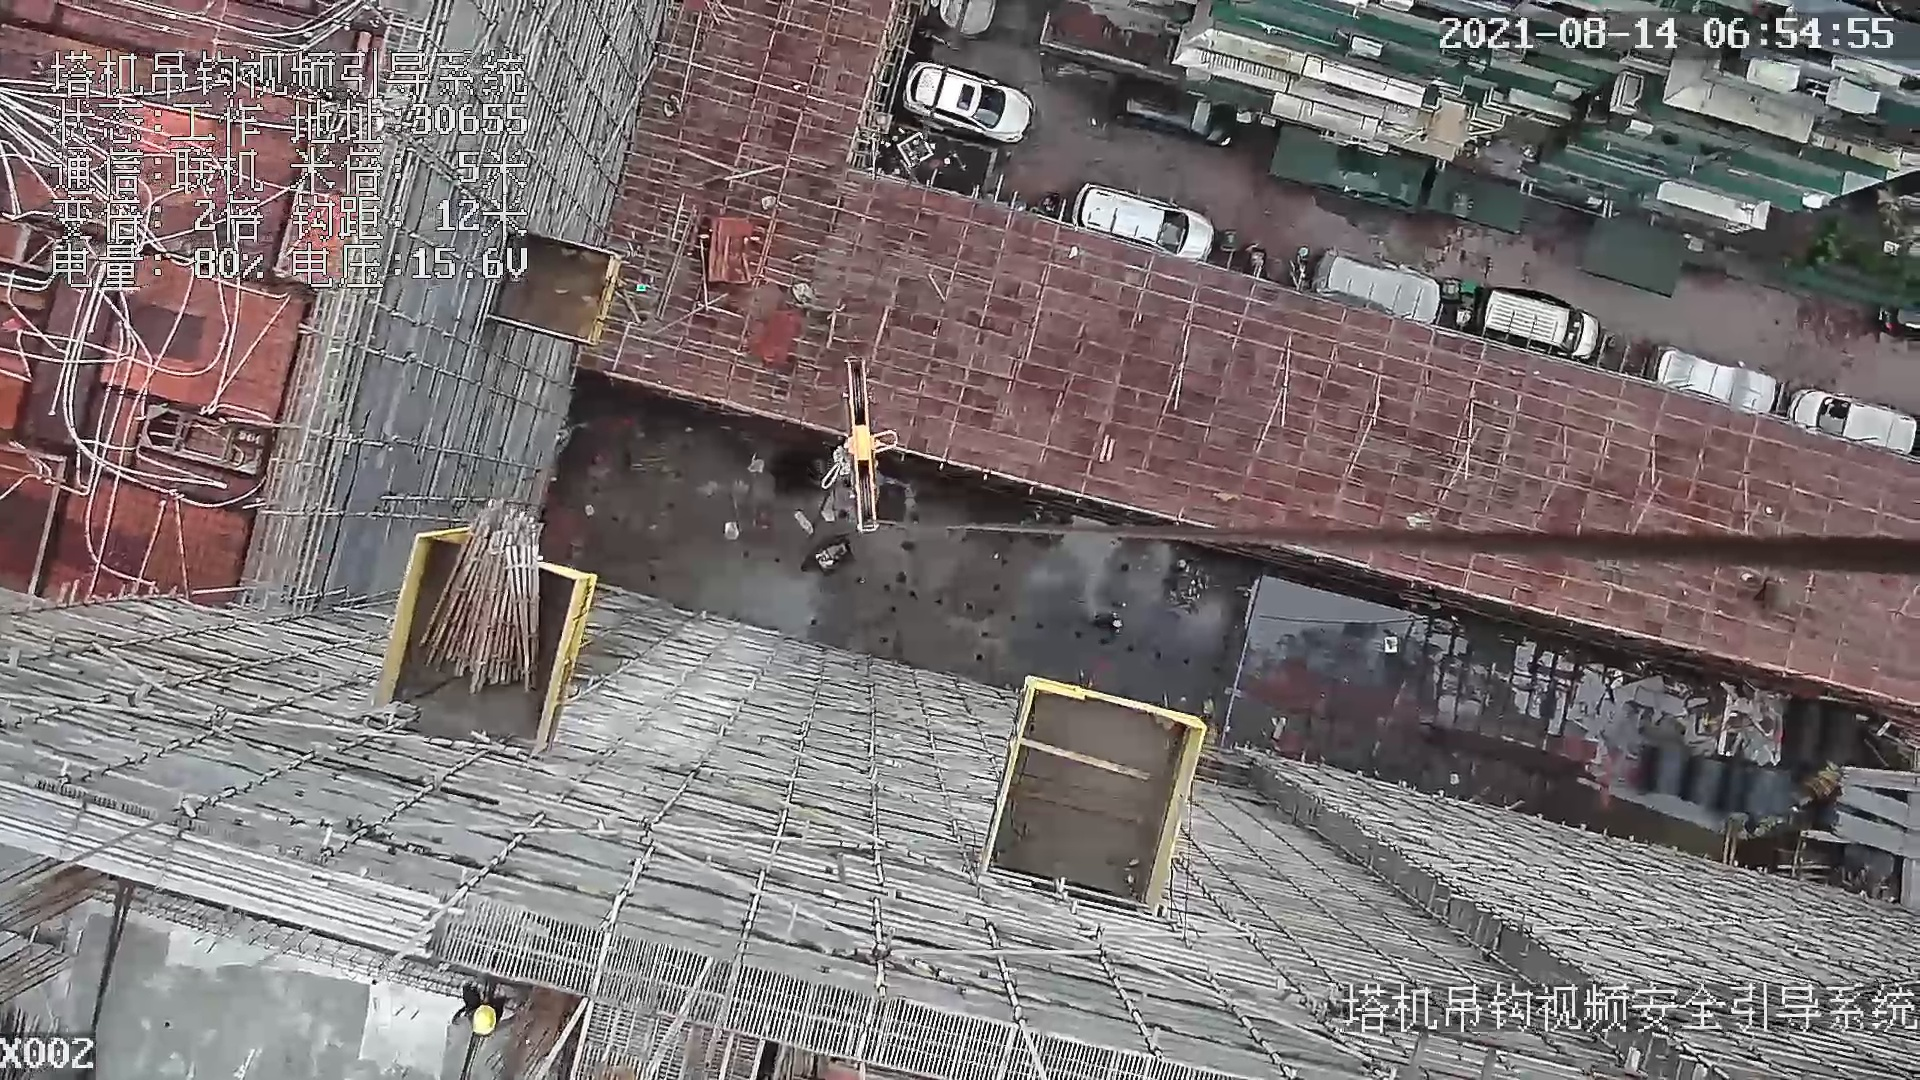helmet: (472, 1004, 497, 1036)
hook: (833, 349, 900, 535)
person: (455, 976, 517, 1040)
rebar: (1, 781, 436, 961)
scaffold: (425, 505, 543, 691)
